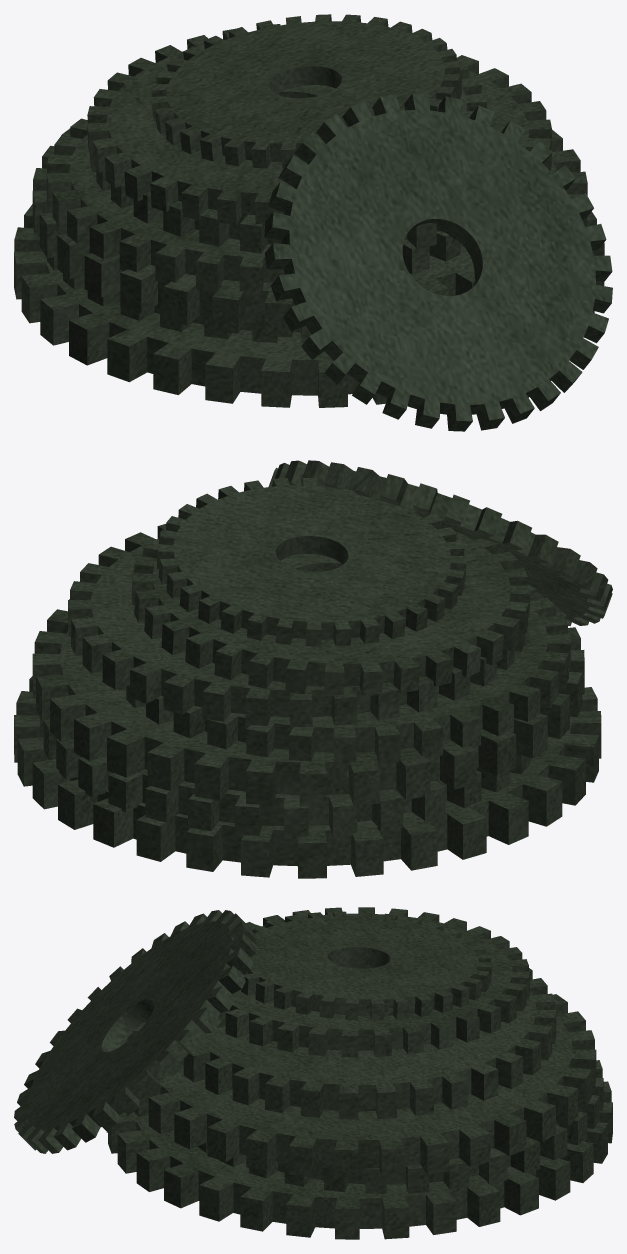
Rendered from Gear_Stack.fbx.
The picture shows the model from 3 angles, top to bottom: view 1: azimuth 30°, elevation 25°; view 2: azimuth 150°, elevation 25°; view 3: azimuth 270°, elevation 25°; orthographic projection. The views are drawn at different scales.
Visible parts, largest first — view 1: Circle; view 2: Circle; view 3: Circle.
Boxes of the visible parts, x1=… form: Circle: x1=14, y1=14, x2=612, y2=431; Circle: x1=14, y1=460, x2=612, y2=878; Circle: x1=14, y1=907, x2=612, y2=1239.
Size of the model in its own units: 222 by 98.31 by 263.
